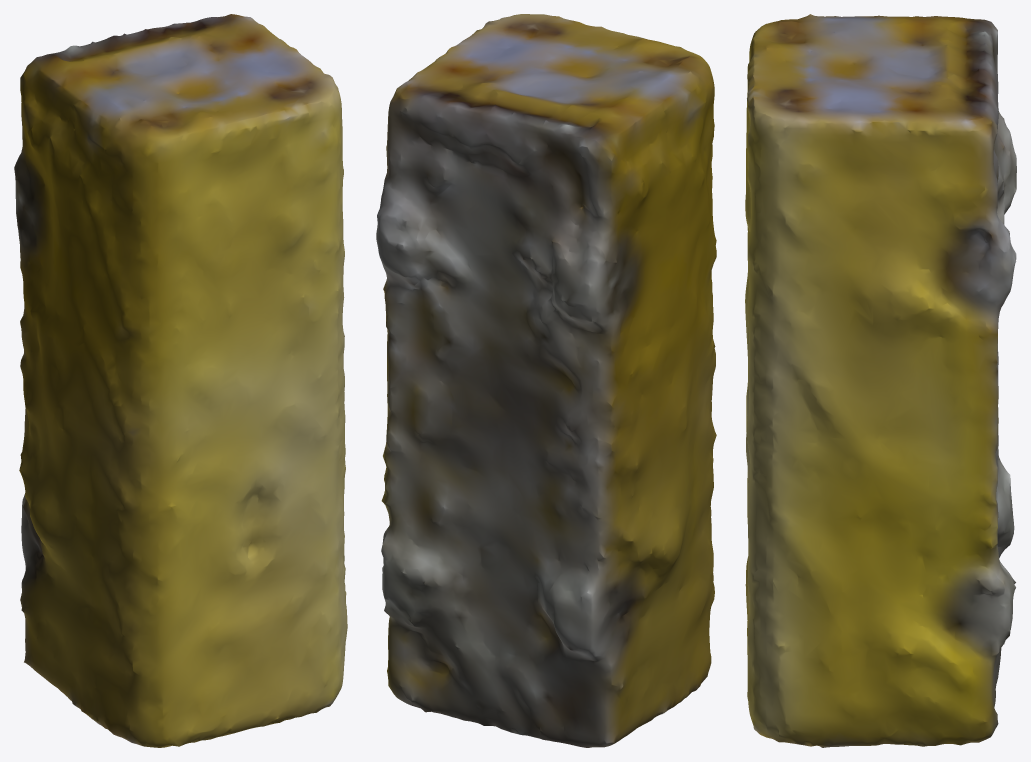
The model's file is school_bus1.glb.
3 renders of one model, left to right at view 1: azimuth 30°, elevation 25°; view 2: azimuth 150°, elevation 25°; view 3: azimuth 270°, elevation 25°, orthographic. The views are drawn at different scales.
Size of the model in its own units: 0.4408 by 0.993 by 0.3837.
